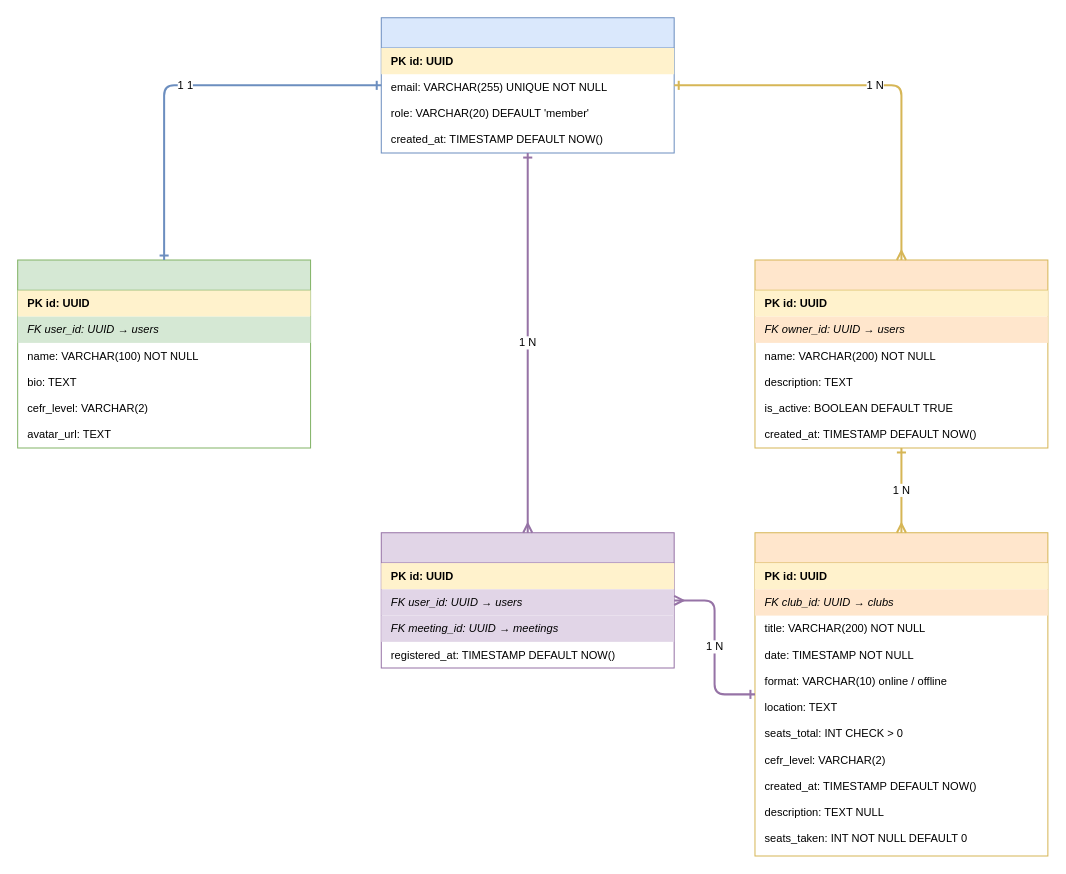
Some shapes in this 1066 by 874 pixel diagram are drawn without their labels. The shapes that lost their labels are listed below. From the top down, each one's box as (x1, y1, x2, y2) in pixels, then its label:
(380, 17, 674, 153): users
(17, 259, 311, 448): profiles
(754, 259, 1048, 448): clubs
(380, 532, 674, 668): registrations
(754, 532, 1048, 856): meetings
